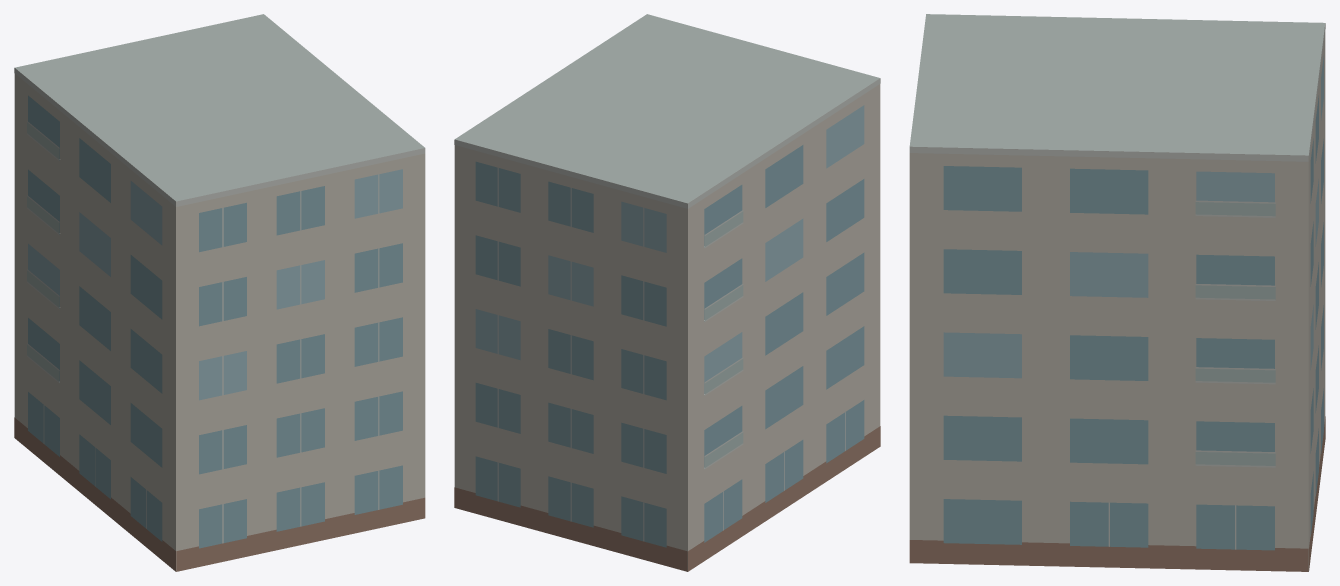
Rendered from survey-upis-33018296.glb.
The picture shows the model from 3 angles, left to right: view 1: azimuth 30°, elevation 25°; view 2: azimuth 150°, elevation 25°; view 3: azimuth 270°, elevation 25°; orthographic projection. The views are drawn at different scales.
Parts seen in each view (by area): view 1: survey-upis-33018296.tmp; view 2: survey-upis-33018296.tmp; view 3: survey-upis-33018296.tmp.
Boxes of the visible parts, box(x1,y1,x2,y2) form: survey-upis-33018296.tmp: box(14, 14, 425, 571); survey-upis-33018296.tmp: box(454, 14, 880, 571); survey-upis-33018296.tmp: box(909, 14, 1325, 571).
Bounding box in the file's own units: 11.89 × 16.3 × 14.76.
